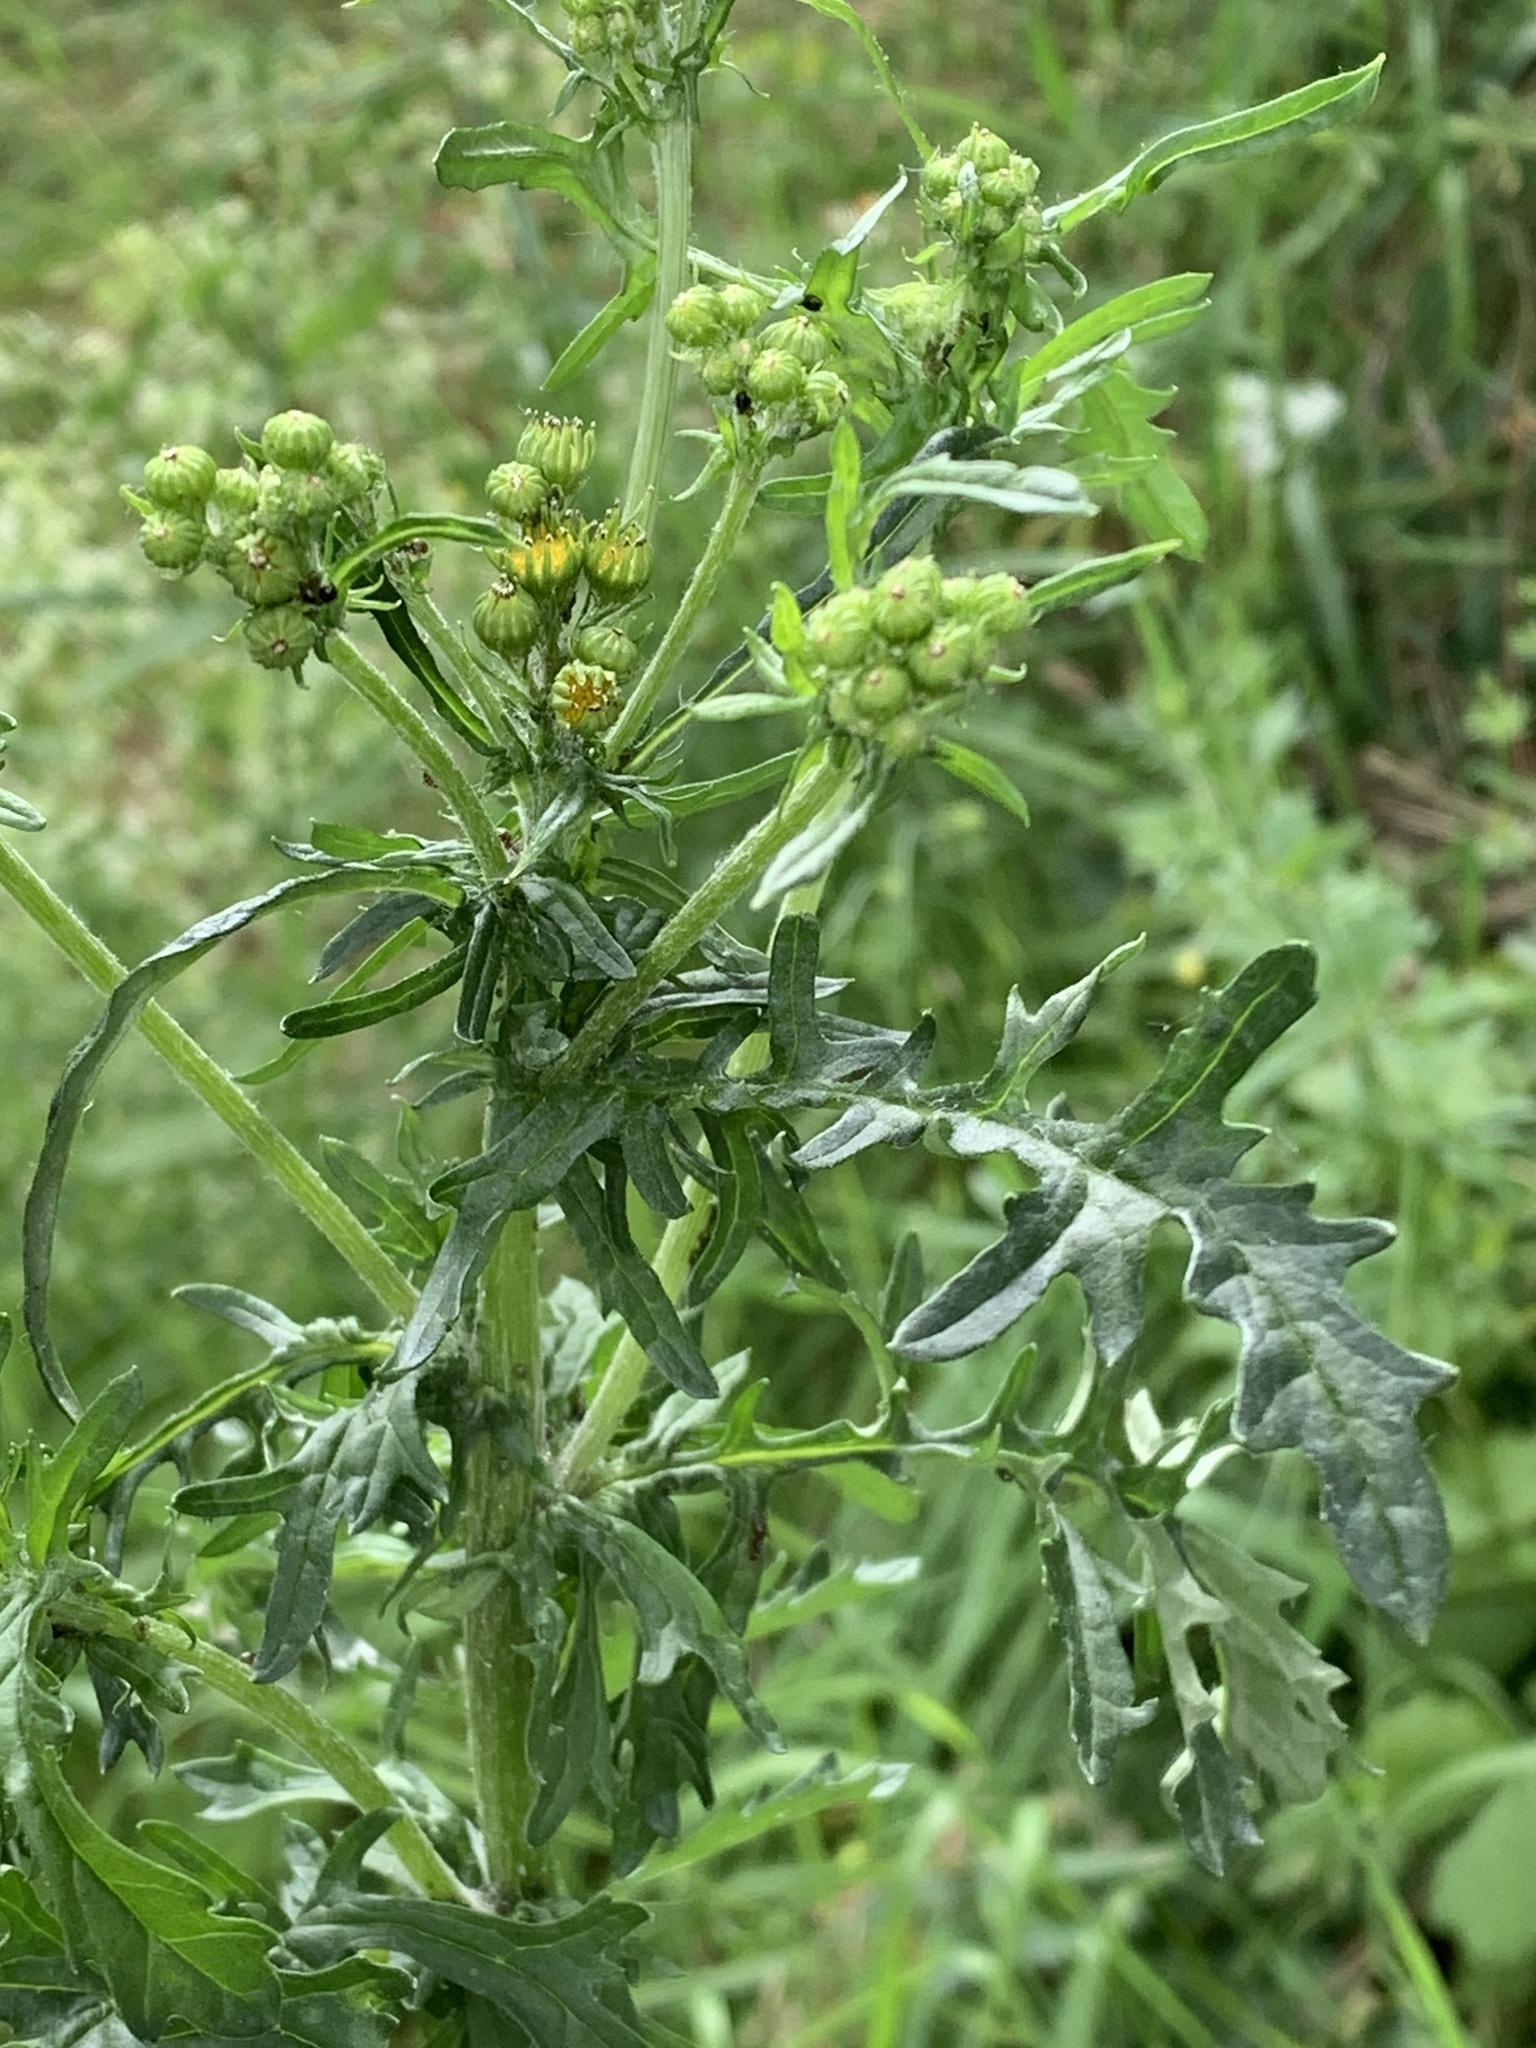Jacobaea vulgaris: (0, 0, 1494, 2048)
